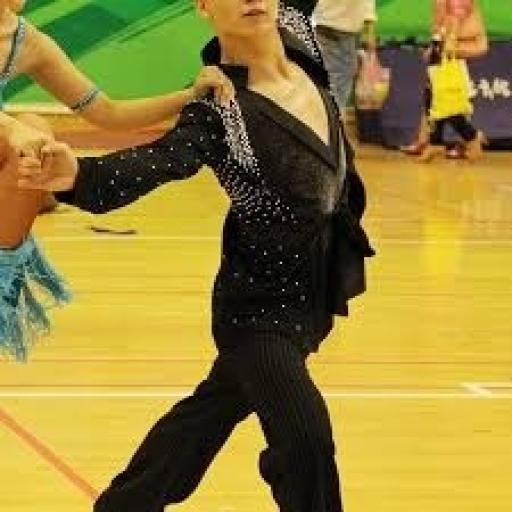dancing: (9, 0, 380, 510)
